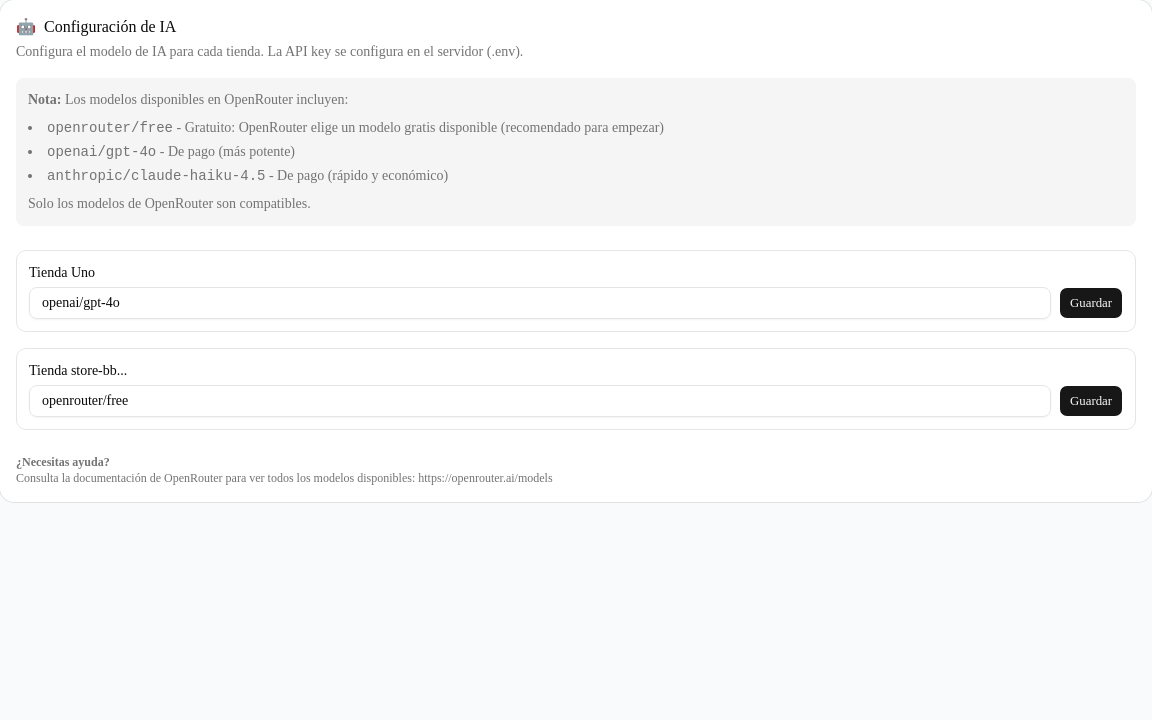
Test: IAConfigSection › IAC-04: error de la API (con y sin mensaje) se muestra bajo la tienda
The width and height of the screenshot is (1152, 720).
Click the 2nd button "Guardar": coordinates (1091, 401) [1059,385,1123,417]
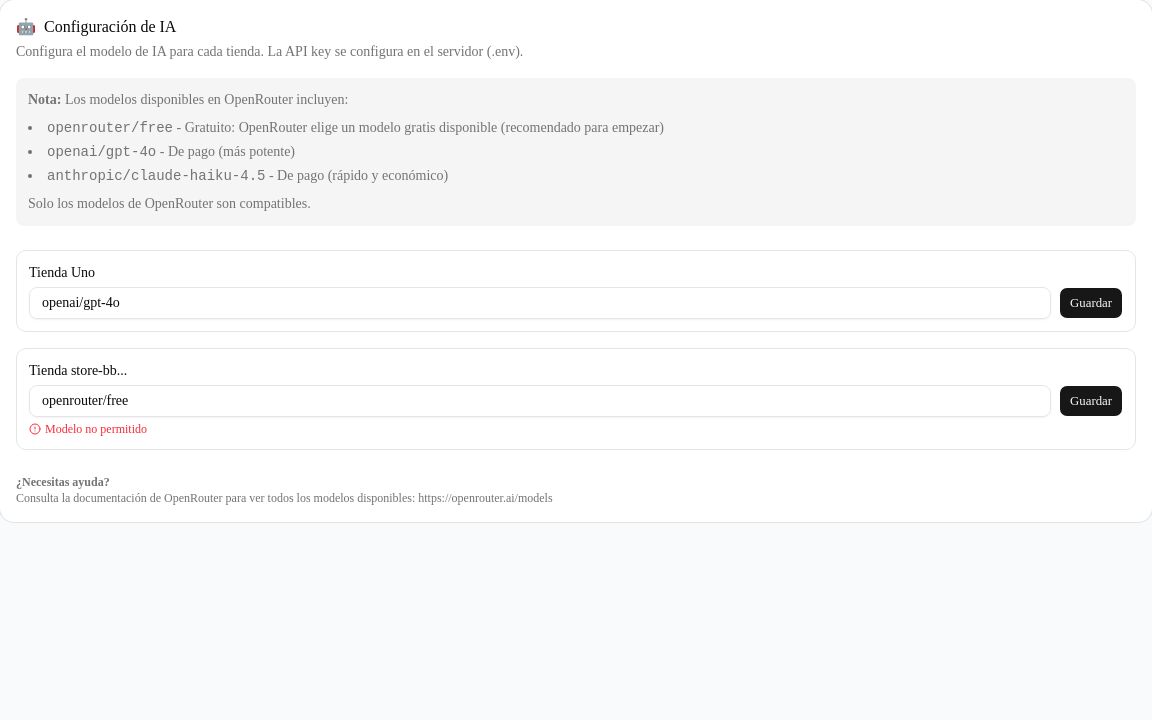
Check: the text "Modelo no permitido" is shown, box [45,421,147,437]
Click the 2nd button "Guardar": coordinates (1091, 401) [1059,385,1123,417]
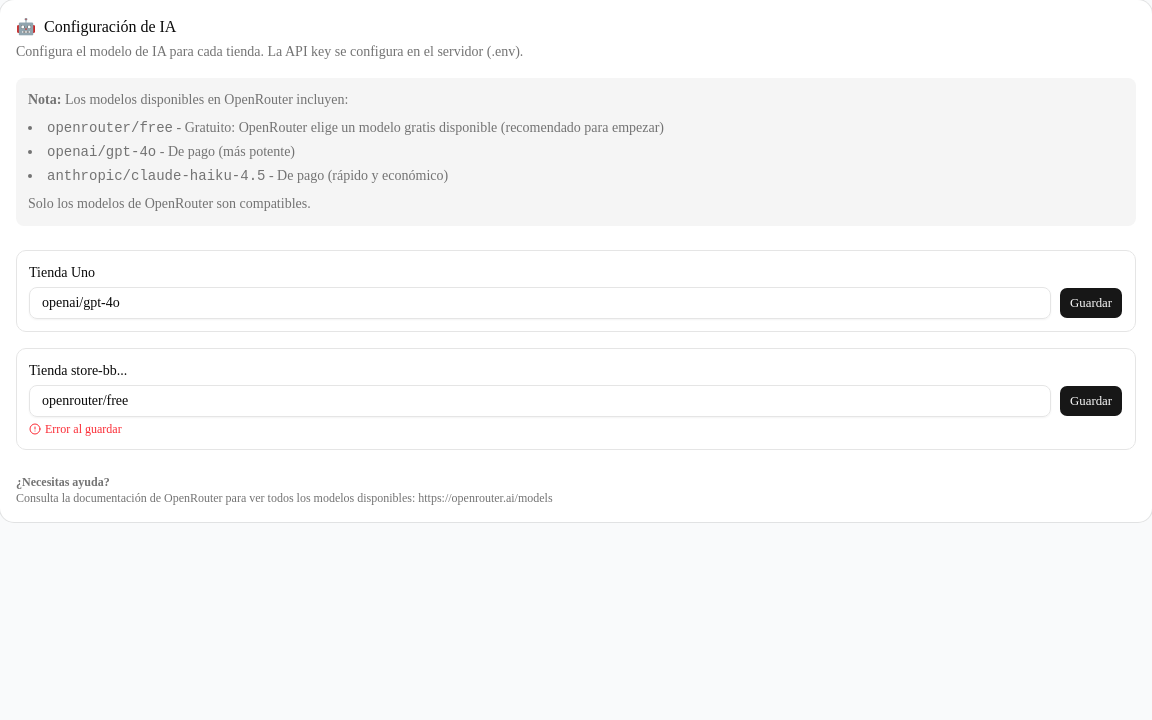
Check: the text "Error al guardar" is shown, box [45,421,122,437]
Click the 2nd button "Guardar": coordinates (1091, 401) [1059,385,1123,417]
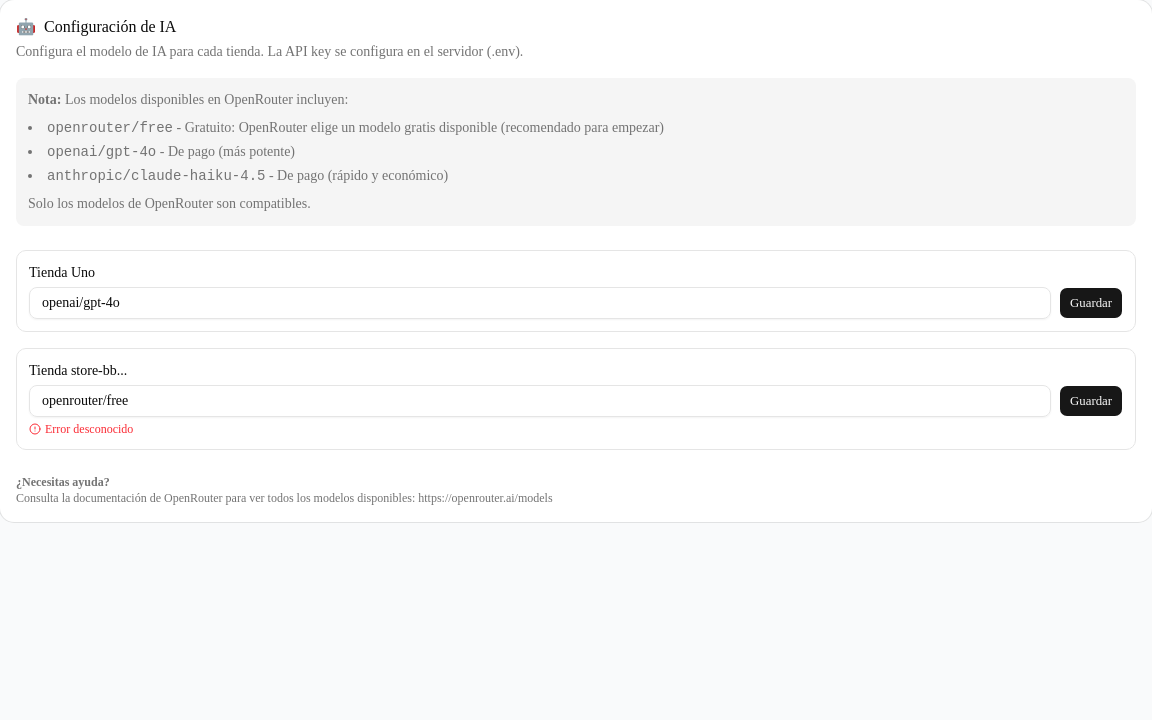
Check: the text "Error desconocido" is shown, box [45,421,133,437]
